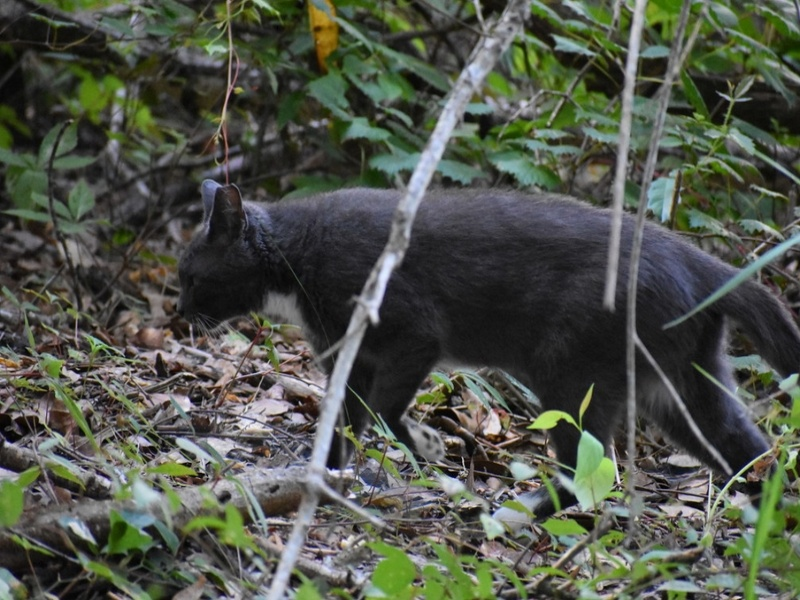cat: (170, 172, 799, 506)
